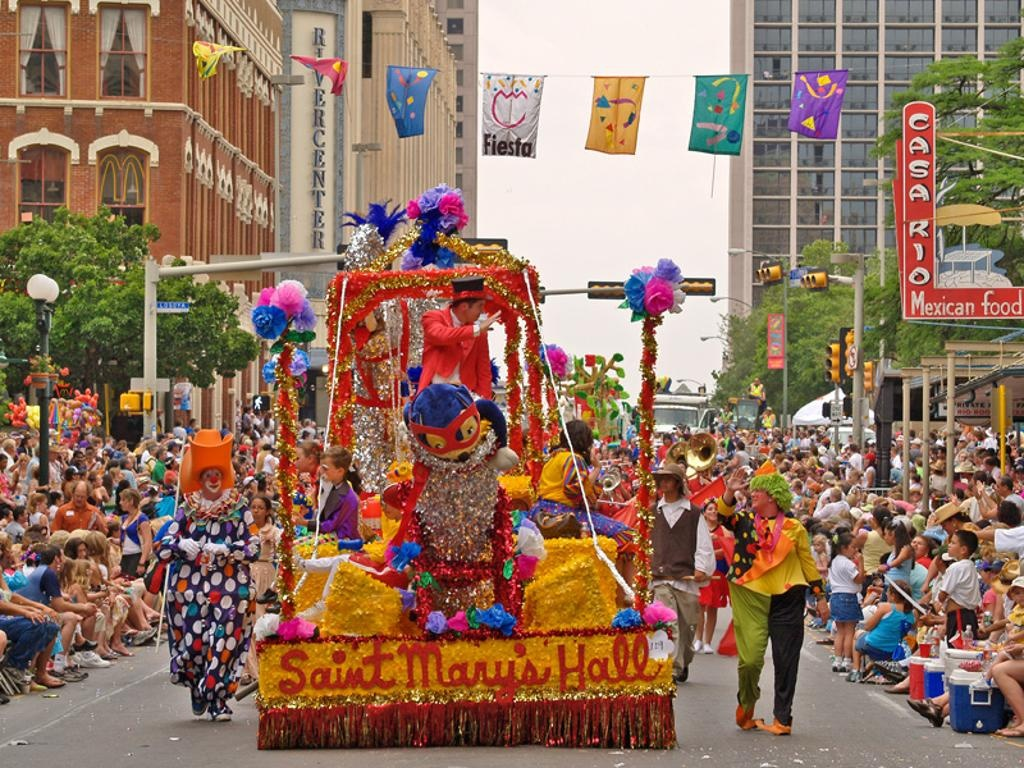human_face: (461, 294, 485, 324), (201, 468, 223, 492), (750, 486, 768, 508), (321, 454, 337, 478), (948, 531, 962, 557), (72, 484, 88, 506), (910, 536, 926, 558), (296, 448, 310, 472), (384, 500, 400, 520), (730, 490, 746, 509), (660, 474, 676, 492), (1012, 584, 1024, 608), (251, 500, 265, 518), (936, 554, 950, 572), (53, 546, 65, 566), (74, 542, 86, 562), (980, 564, 992, 582), (4, 540, 14, 560), (706, 502, 718, 518), (846, 538, 856, 556), (996, 478, 1006, 496), (118, 494, 130, 508), (885, 586, 897, 600), (942, 518, 954, 532), (884, 526, 894, 542), (28, 537, 38, 551), (39, 496, 47, 512), (39, 528, 47, 544), (912, 490, 922, 502), (112, 525, 120, 539), (262, 475, 270, 489), (48, 449, 58, 459), (94, 473, 102, 485), (662, 435, 670, 447), (814, 540, 822, 552), (1016, 468, 1024, 480), (996, 448, 1004, 460), (20, 508, 26, 520), (678, 462, 684, 474), (56, 494, 62, 505), (170, 459, 178, 467), (150, 446, 158, 454), (248, 484, 256, 492), (826, 520, 834, 528), (961, 471, 969, 479), (6, 509, 12, 519), (142, 480, 148, 490), (102, 451, 108, 461), (126, 458, 132, 468), (62, 448, 68, 458), (9, 443, 15, 453), (848, 472, 854, 482), (830, 490, 836, 500), (84, 473, 90, 481), (73, 470, 79, 478), (86, 451, 92, 459), (114, 465, 120, 473), (169, 433, 175, 441), (85, 433, 91, 441), (26, 437, 32, 445), (20, 456, 26, 464), (864, 455, 868, 467), (950, 490, 956, 498), (912, 442, 918, 450), (808, 487, 814, 494), (2, 457, 6, 467), (77, 454, 83, 460), (97, 439, 103, 445), (50, 434, 56, 440), (13, 438, 19, 444), (272, 449, 278, 455), (622, 455, 628, 461), (798, 472, 804, 478), (937, 448, 943, 454), (160, 451, 164, 459), (174, 445, 178, 453), (241, 457, 245, 465), (307, 432, 311, 440), (909, 470, 913, 478), (986, 462, 990, 470), (795, 484, 799, 491), (252, 436, 256, 442), (256, 411, 260, 417), (248, 407, 252, 413), (192, 420, 196, 426), (244, 448, 248, 454), (620, 451, 624, 457), (754, 378, 758, 384), (729, 429, 733, 435), (898, 439, 902, 445), (960, 440, 964, 446), (971, 434, 975, 440), (109, 437, 113, 442), (247, 425, 251, 430), (766, 410, 770, 414), (772, 429, 776, 433), (226, 422, 228, 427)
